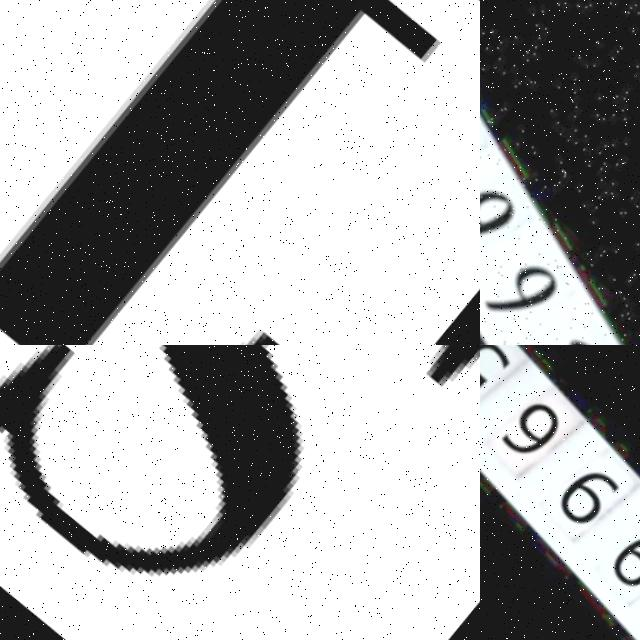5: (480, 345, 531, 425)
6: (480, 225, 589, 345), (484, 378, 586, 485), (480, 151, 545, 286)
8: (501, 294, 640, 345)
9: (537, 440, 640, 553), (593, 507, 640, 614)
S: (0, 345, 480, 640)
T: (0, 0, 480, 345)
